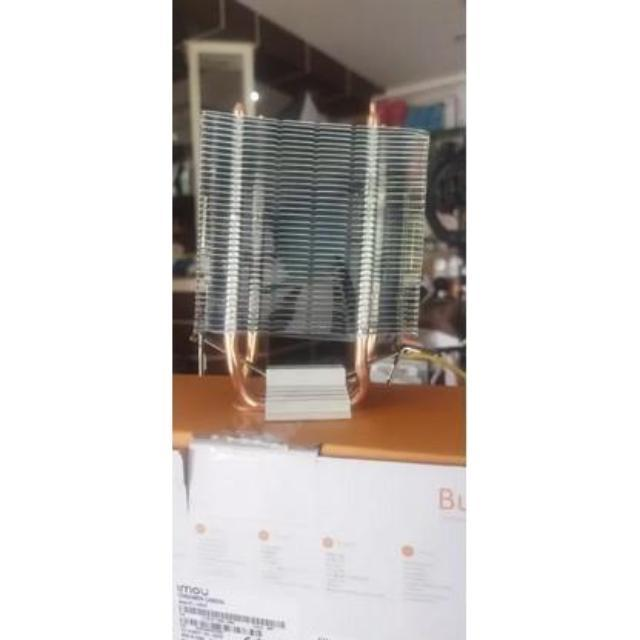CPU_Fan: (200, 108, 426, 424)
